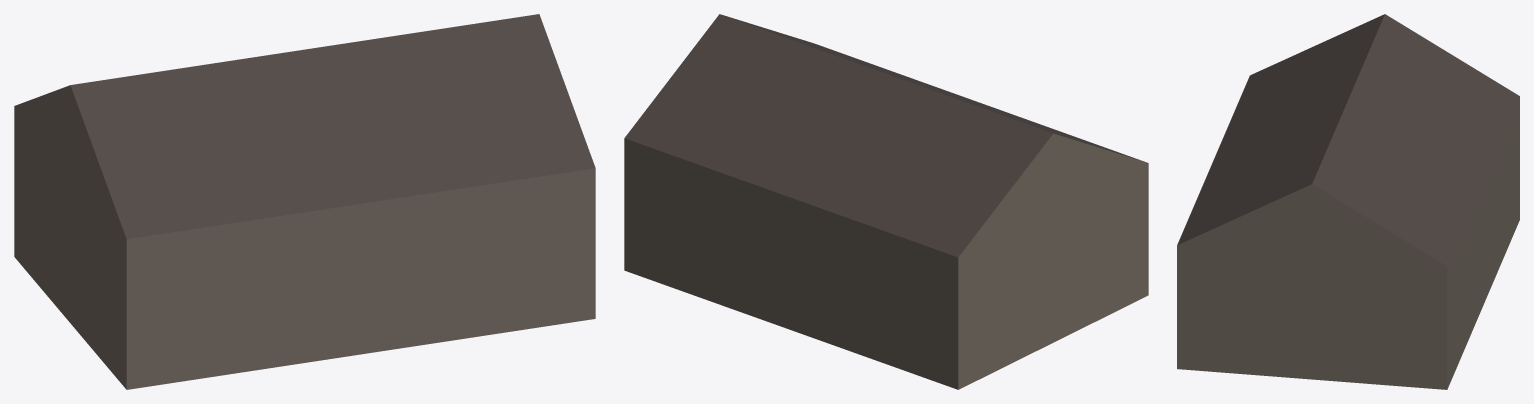
3 renders of one model, left to right at view 1: azimuth 30°, elevation 25°; view 2: azimuth 150°, elevation 25°; view 3: azimuth 270°, elevation 25°, orthographic. The views are drawn at different scales.
Visible parts, largest first — view 1: HP-w859082502; view 2: HP-w859082502; view 3: HP-w859082502.
Boxes of the visible parts, left/top/right/bottom form: HP-w859082502: left=14, top=14, right=595, bottom=389; HP-w859082502: left=624, top=14, right=1148, bottom=389; HP-w859082502: left=1177, top=14, right=1519, bottom=389.
Size of the model in its own units: 19.87 by 9.49 by 15.08.
